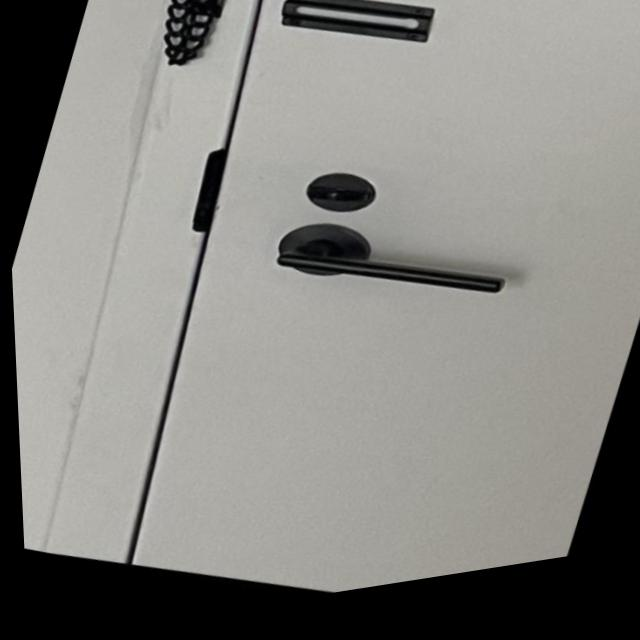door_handle: (239, 177, 540, 392)
